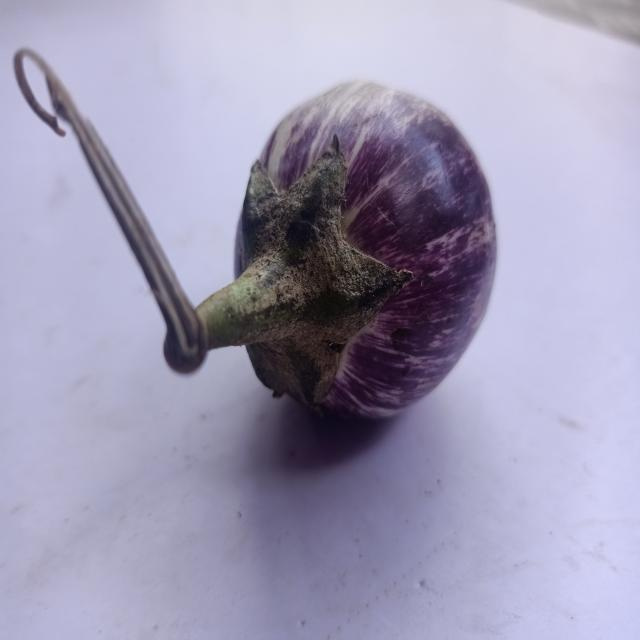Eggplant: (10, 32, 522, 492)
